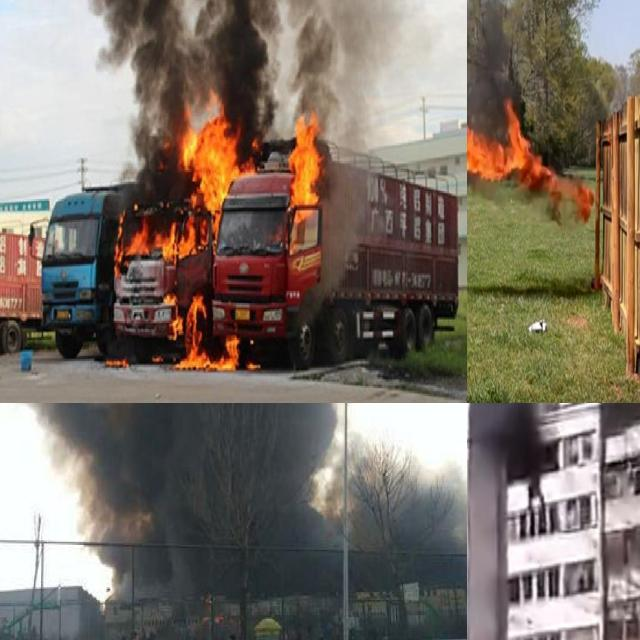fire: (109, 90, 322, 381), (467, 99, 564, 225)
smoke: (0, 403, 467, 589), (72, 0, 414, 155), (467, 403, 547, 471), (469, 0, 513, 122)
